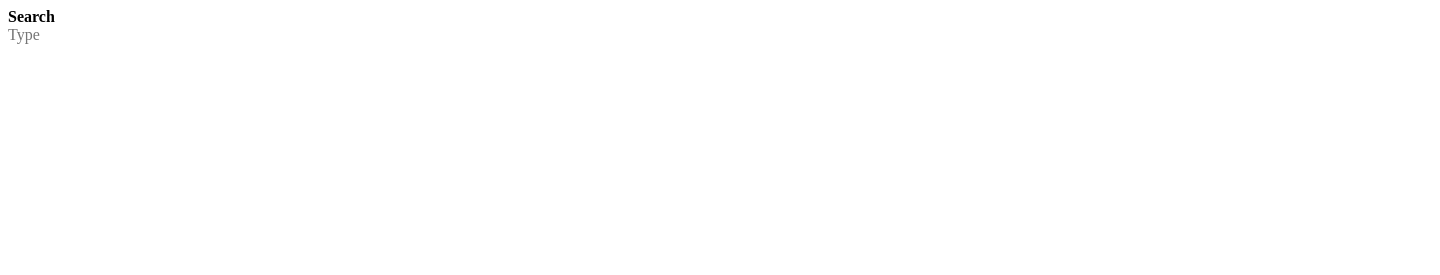
Scenario: PlaceSearch › an older slow answer never replaces a newer one
Type "ki" into the dropdown labelled "Search" at point(720, 35), box 8,26 -> 1432,44
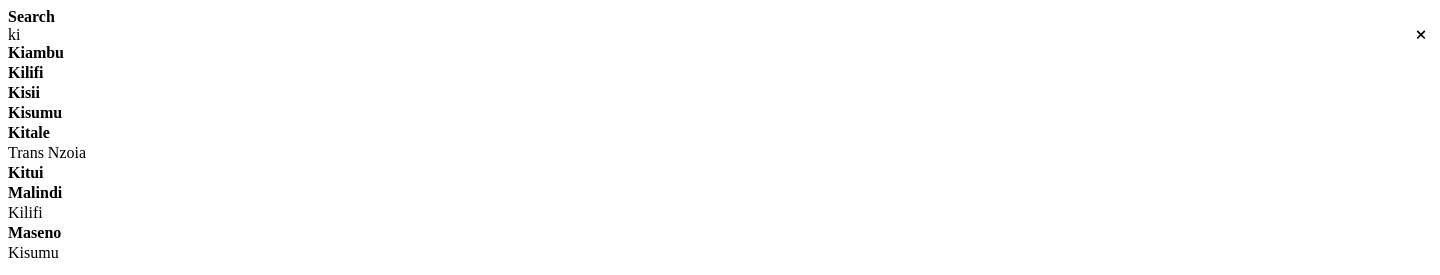
Type "l" into the dropdown labelled "Search" at point(720, 35), box 8,26 -> 1432,44
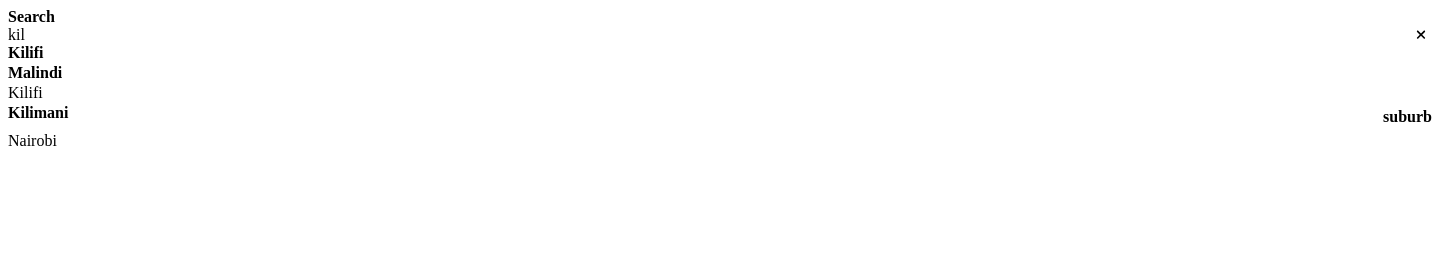
Expected: the option "Kilimani suburb Nairobi" is shown, 8,104 -> 1432,150
